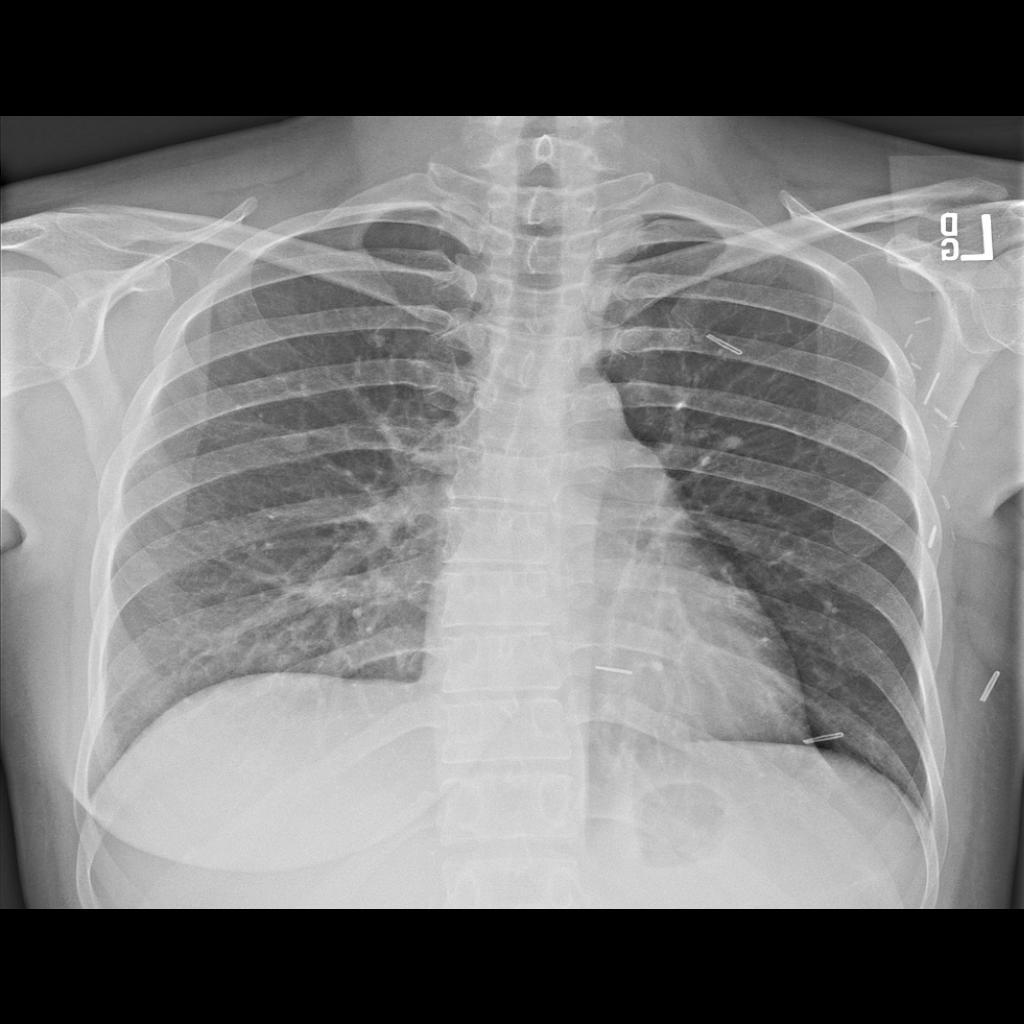Nodule: (280, 426, 312, 459)
